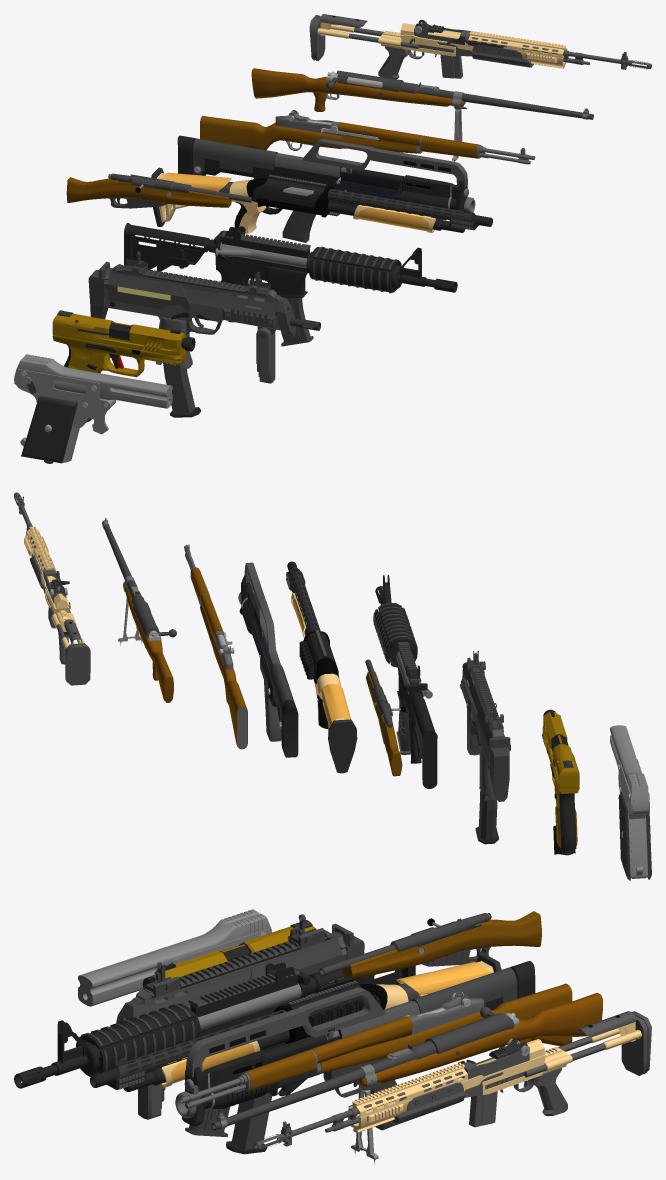
Rendered from pack10.gltf.
The picture shows the model from 3 angles, top to bottom: view 1: azimuth 30°, elevation 25°; view 2: azimuth 150°, elevation 25°; view 3: azimuth 270°, elevation 25°; orthographic projection. The views are drawn at different scales.
Visible parts, largest first — view 1: HK_MP7, Colt_M4A1, Kel_Tec_KS7, Mossberg_500_SWAT, 2MM_Kalibri, M14_EBR, M1_Grand, Mauser_1918T_Gewehr, Canit_TP9_Elite_Combat, Mosin_Nagant_Pistol; view 2: Colt_M4A1, HK_MP7, Mossberg_500_SWAT, Kel_Tec_KS7, 2MM_Kalibri, M14_EBR, Canit_TP9_Elite_Combat, M1_Grand, Mauser_1918T_Gewehr, Mosin_Nagant_Pistol; view 3: M14_EBR, Colt_M4A1, Kel_Tec_KS7, HK_MP7, Mauser_1918T_Gewehr, M1_Grand, Mossberg_500_SWAT, Mosin_Nagant_Pistol, 2MM_Kalibri, Canit_TP9_Elite_Combat.
Part boxes in pixels (x1,y1,x2,y2): HK_MP7: [88, 251, 320, 417]; Colt_M4A1: [124, 223, 457, 346]; Kel_Tec_KS7: [177, 135, 475, 242]; Mossberg_500_SWAT: [151, 167, 492, 233]; 2MM_Kalibri: [14, 354, 172, 463]; M14_EBR: [309, 14, 651, 79]; M1_Grand: [200, 110, 535, 164]; Mauser_1918T_Gewehr: [251, 68, 593, 161]; Canit_TP9_Elite_Combat: [52, 310, 195, 421]; Mosin_Nagant_Pistol: [66, 173, 252, 208]; Colt_M4A1: [373, 575, 437, 788]; HK_MP7: [460, 650, 510, 844]; Mossberg_500_SWAT: [286, 561, 357, 773]; Kel_Tec_KS7: [238, 562, 298, 757]; 2MM_Kalibri: [610, 725, 651, 880]; M14_EBR: [14, 492, 90, 685]; Canit_TP9_Elite_Combat: [542, 709, 579, 855]; M1_Grand: [184, 544, 247, 749]; Mauser_1918T_Gewehr: [102, 518, 176, 702]; Mosin_Nagant_Pistol: [365, 659, 405, 776]; M14_EBR: [254, 1011, 651, 1149]; Colt_M4A1: [14, 962, 415, 1137]; Kel_Tec_KS7: [175, 961, 535, 1130]; HK_MP7: [116, 914, 364, 1154]; Mauser_1918T_Gewehr: [211, 993, 602, 1164]; M1_Grand: [180, 983, 572, 1108]; Mossberg_500_SWAT: [90, 953, 501, 1091]; Mosin_Nagant_Pistol: [319, 911, 541, 979]; 2MM_Kalibri: [78, 909, 271, 1006]; Canit_TP9_Elite_Combat: [142, 920, 316, 987].
Size of the model in its own units: 83.87 by 31.29 by 51.96.
2 materials, 2 textured.
